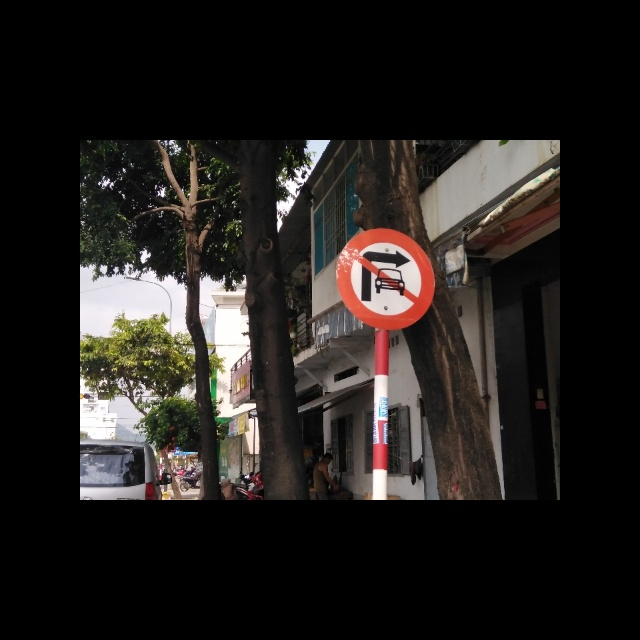Cấm xe ô tô rẽ trái: (334, 228, 437, 332)
